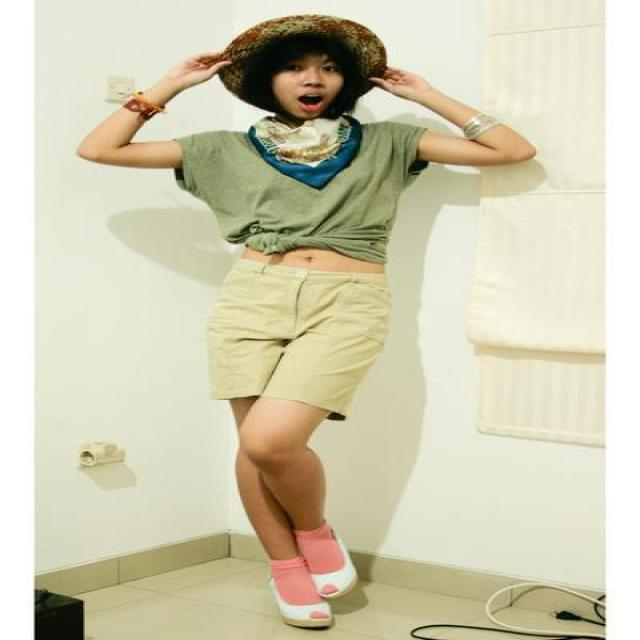hat: (189, 15, 384, 88)
shirt: (163, 116, 440, 264)
shoe: (278, 558, 356, 629)
shorts: (200, 258, 389, 419)
